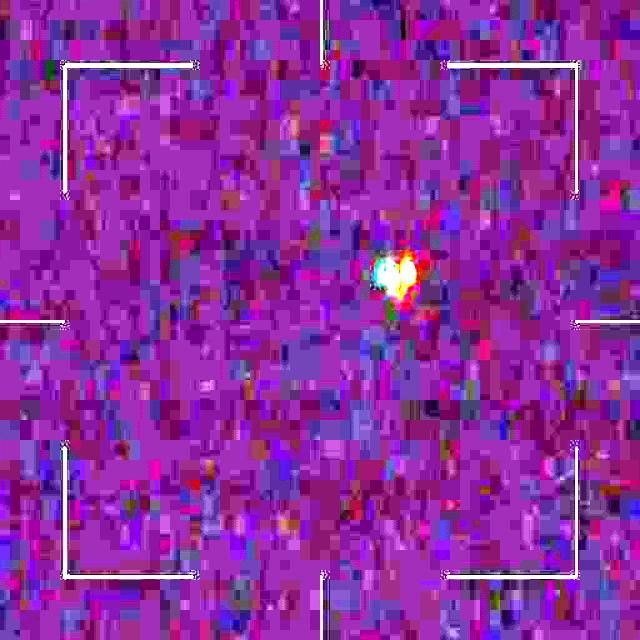bird: (385, 255, 418, 305)
